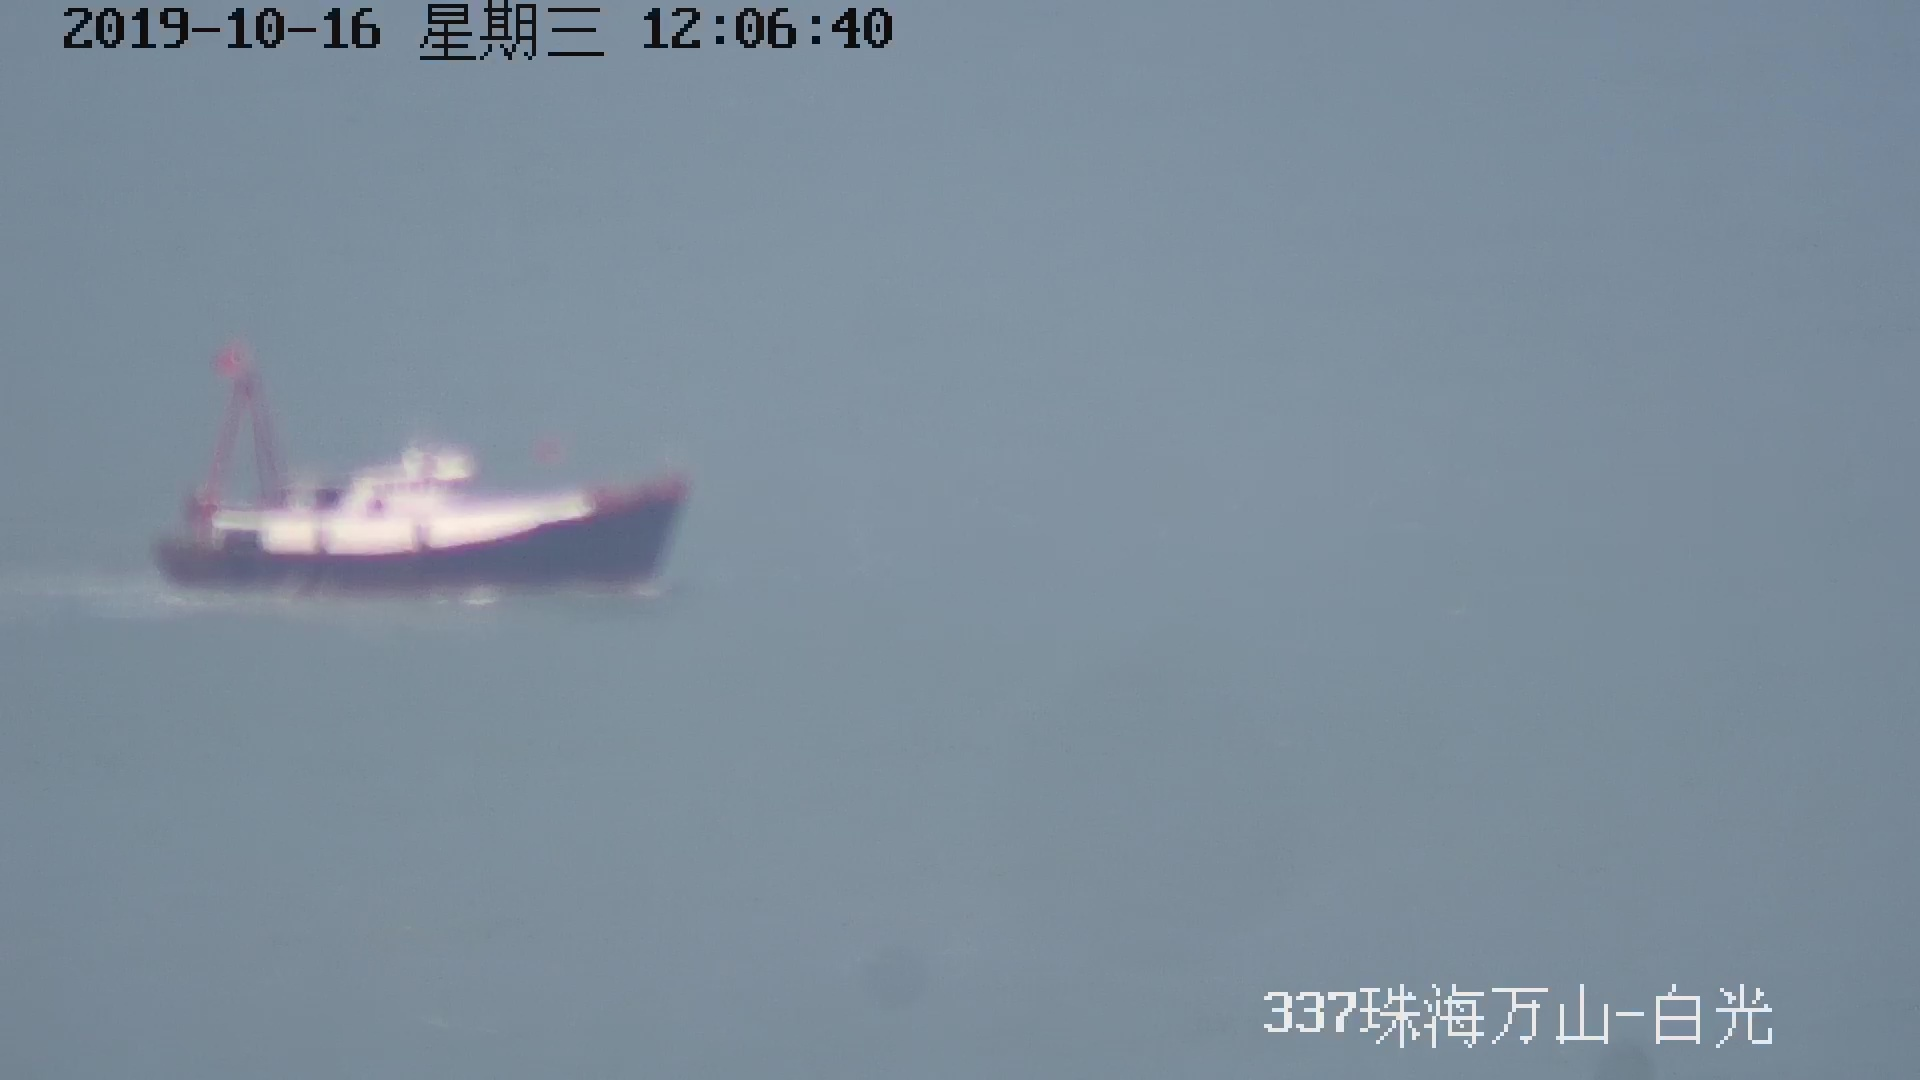ship: (160, 306, 688, 608)
